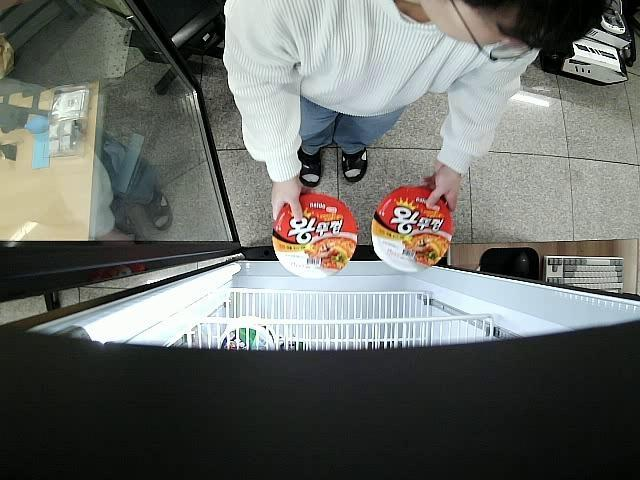10_wangTtukkeong: (272, 192, 358, 282), (372, 186, 452, 273)
